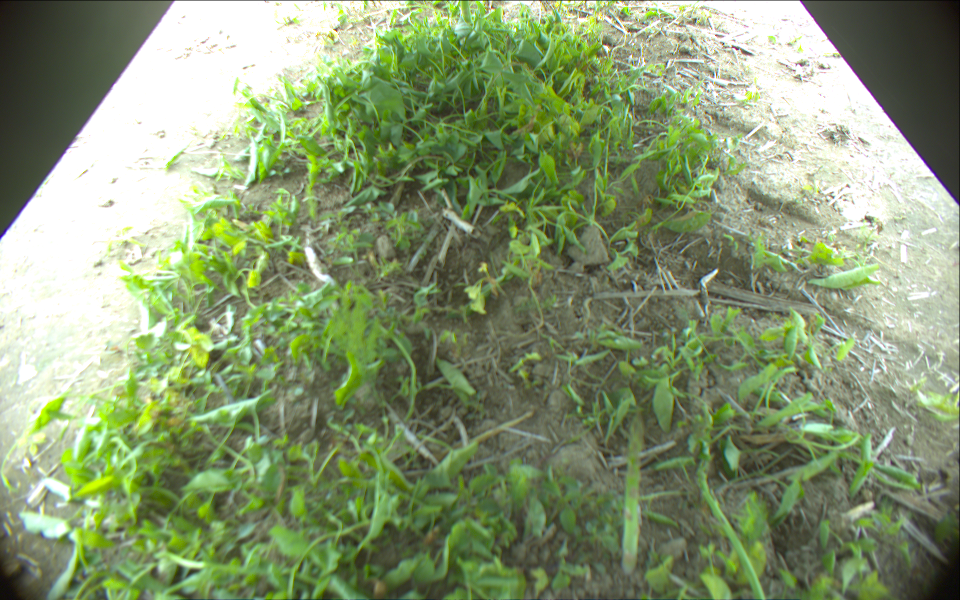aspa: (696, 441, 768, 600), (621, 414, 638, 572), (461, 1, 473, 27)
